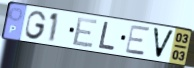1: (48, 12, 61, 43)
E: (71, 16, 100, 49), (124, 25, 151, 57)
G: (23, 10, 48, 41)
L: (97, 20, 116, 52)
V: (151, 26, 176, 61)
